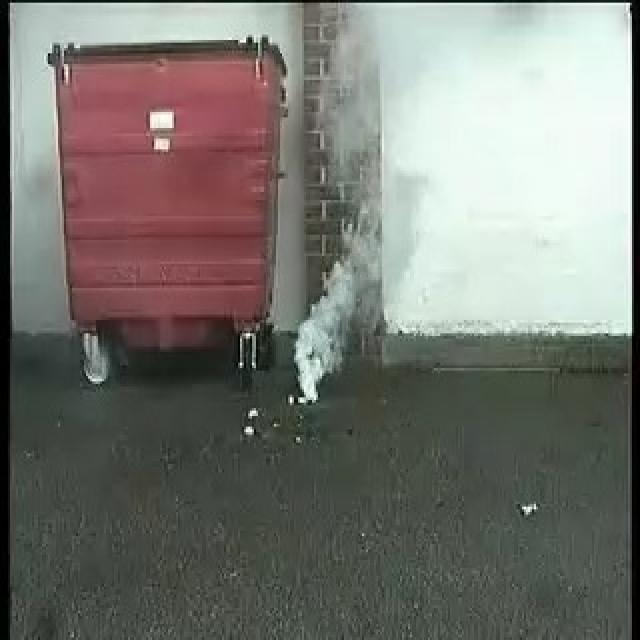smoke: (294, 64, 408, 399)
